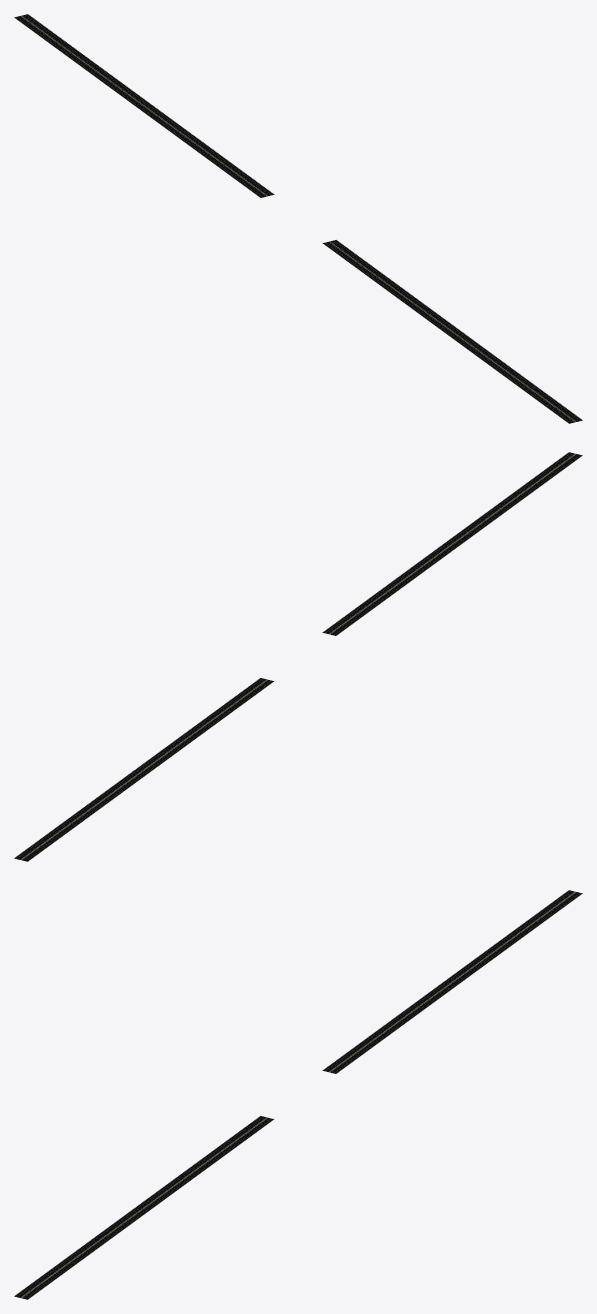
The model's file is 路面模版.glb.
3 views of the same model, one above another, from view 1: azimuth 30°, elevation 25°; view 2: azimuth 150°, elevation 25°; view 3: azimuth 330°, elevation 25° (orthographic).
Parts seen in each view (by area): view 1: 空白-路面01_怀来 (×2), 空白-光金属_0064 (×2); view 2: 空白-路面01_怀来 (×2), 空白-光金属_0064 (×2); view 3: 空白-路面01_怀来 (×2), 空白-光金属_0064 (×2).
Boxes of the visible parts, left/top/right/bottom form: 空白-路面01_怀来 (×2): left=14, top=14, right=582, bottom=423; 空白-光金属_0064 (×2): left=18, top=16, right=581, bottom=422; 空白-路面01_怀来 (×2): left=14, top=452, right=582, bottom=861; 空白-光金属_0064 (×2): left=15, top=454, right=578, bottom=860; 空白-路面01_怀来 (×2): left=14, top=890, right=582, bottom=1299; 空白-光金属_0064 (×2): left=15, top=892, right=578, bottom=1298.
Size of the model in its own units: 2574 by 82.41 by 178857.
Materials: 7 (7 with a texture image).
